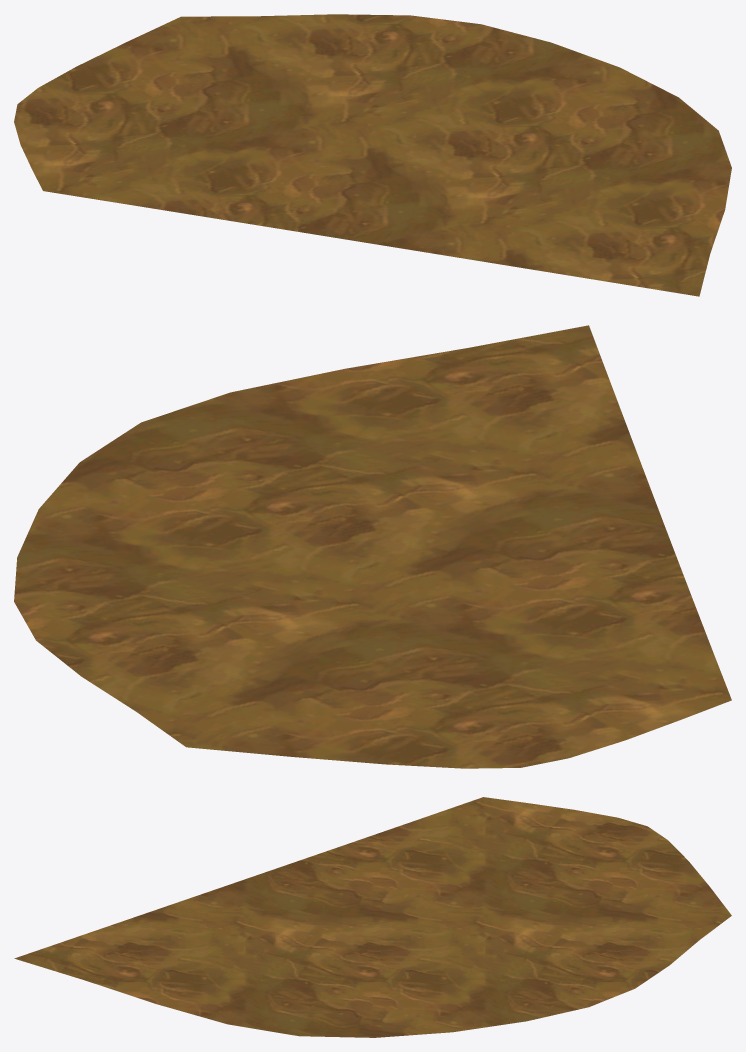
File: HTOWN01_GARDEN01.fbx
3 views of the same model, one above another, from view 1: azimuth 30°, elevation 25°; view 2: azimuth 150°, elevation 25°; view 3: azimuth 270°, elevation 25° (orthographic). The views are drawn at different scales.
Visible parts, largest first — view 1: HTOWN01_GARDEN01; view 2: HTOWN01_GARDEN01; view 3: HTOWN01_GARDEN01.
Boxes of the visible parts, x1=… form: HTOWN01_GARDEN01: x1=14, y1=14, x2=731, y2=296; HTOWN01_GARDEN01: x1=14, y1=325, x2=731, y2=768; HTOWN01_GARDEN01: x1=14, y1=797, x2=731, y2=1037.
Size of the model in its own units: 74608 by 0.0172 by 93976.
Materials: 1 (1 with a texture image).
